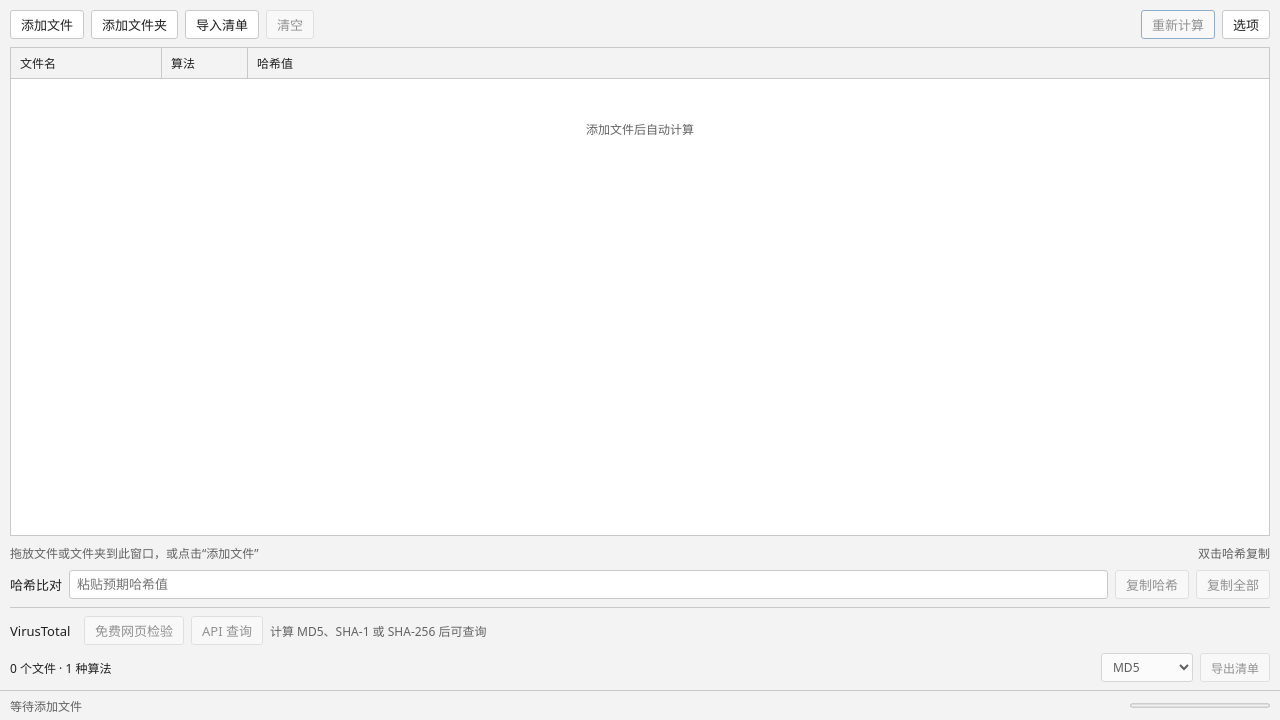
it: shows native errors and allows the user to retry
The width and height of the screenshot is (1280, 720).
Click the button "添加文件". click: (47,24)
box: x1=10 y1=10 x2=84 y2=39
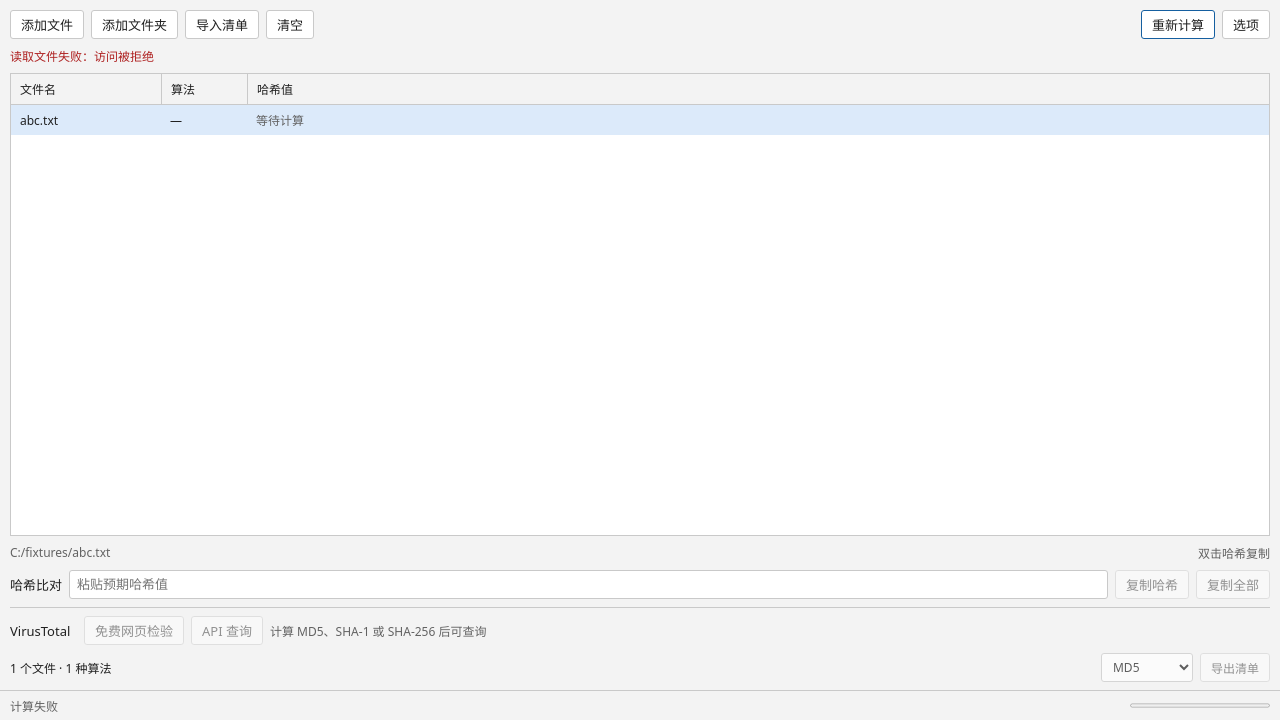
Now the message "读取文件失败：访问被拒绝" is shown, box x1=10 y1=48 x2=154 y2=65
Now the button "重新计算" is enabled
Click the button "重新计算". click: (1178,24)
box: x1=1141 y1=10 x2=1215 y2=39
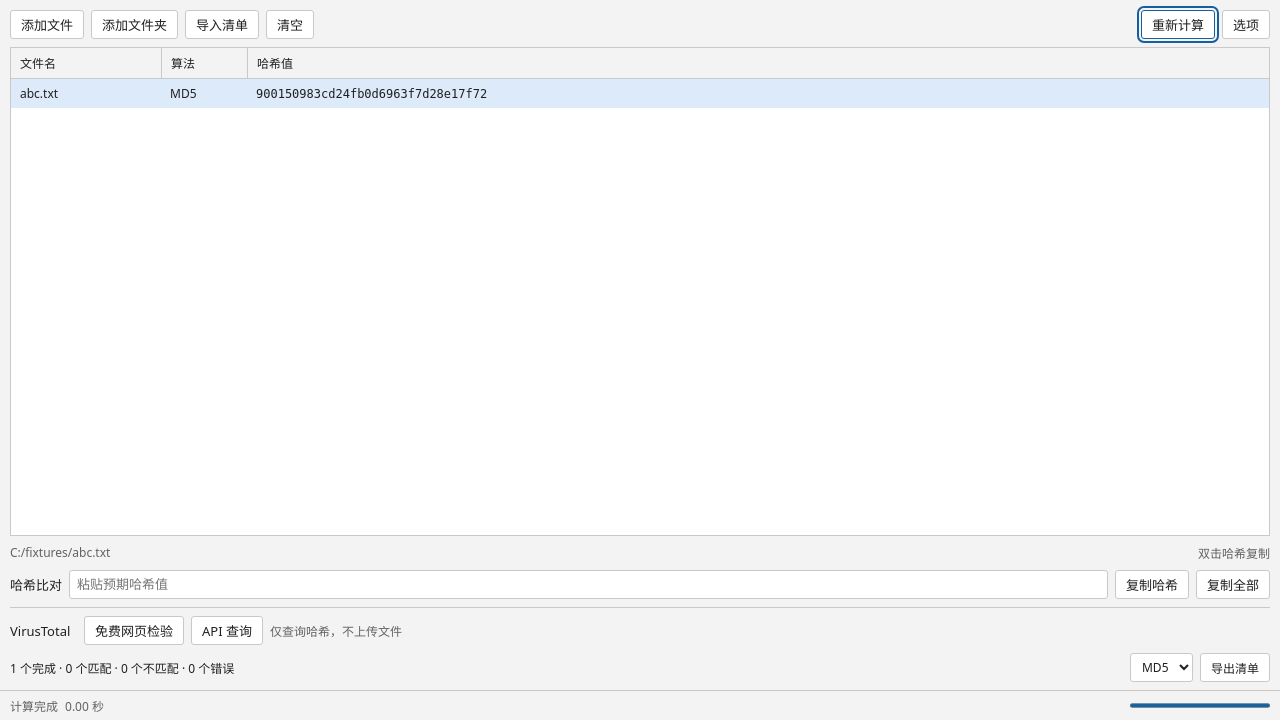
Now the text "900150983cd24fb0d6963f7d28e17f72" is shown, box x1=256 y1=86 x2=487 y2=100
